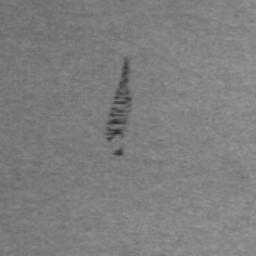Secondary rust skin: (104, 56, 133, 142), (112, 147, 125, 157)
